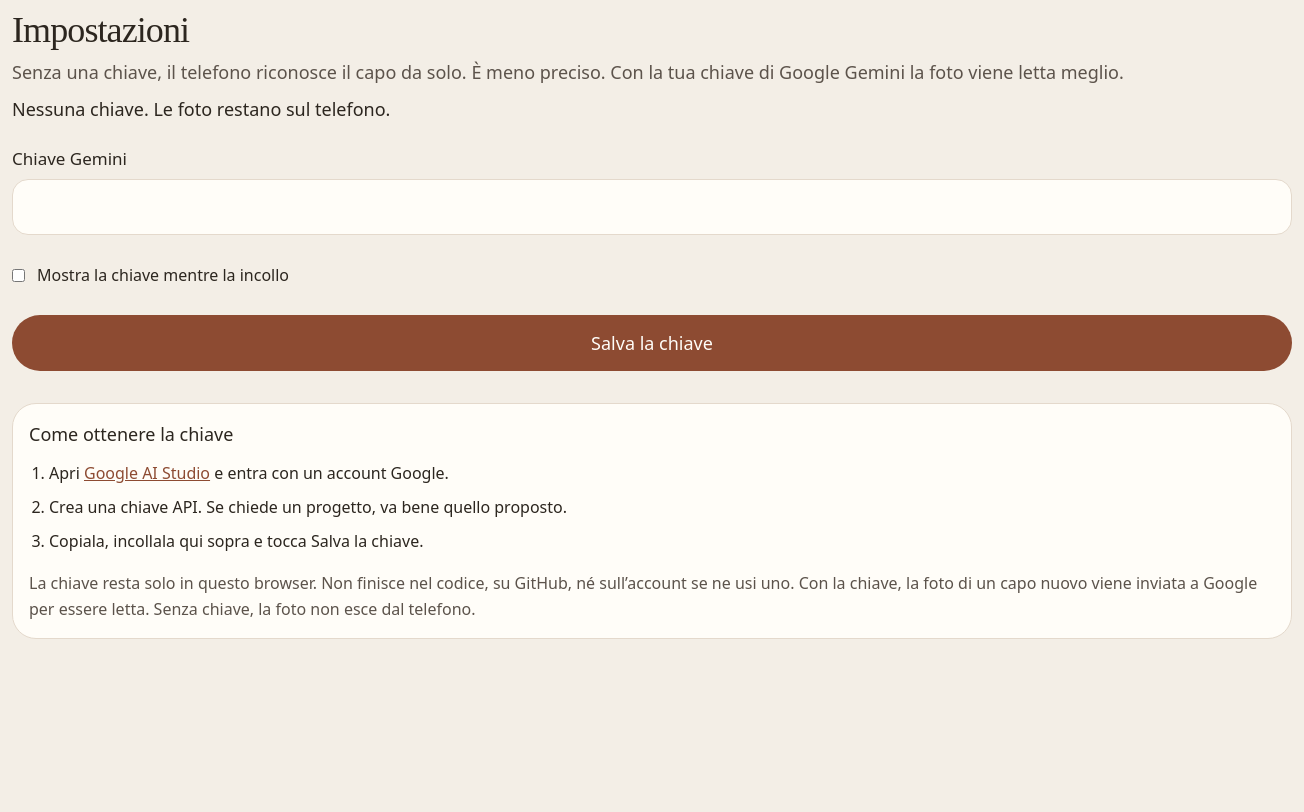
impostazioni › salva la chiave solo nel browser e non la lascia in vista
The image size is (1304, 812).
Expected: the text "Nessuna chiave. Le foto restano sul telefono." is shown, [12,97,390,121]
Type "chiave-di-prova" into the password field labelled "Chiave Gemini".
click(652, 207); type("chiave-di-prova")  # box [12,179,1292,235]
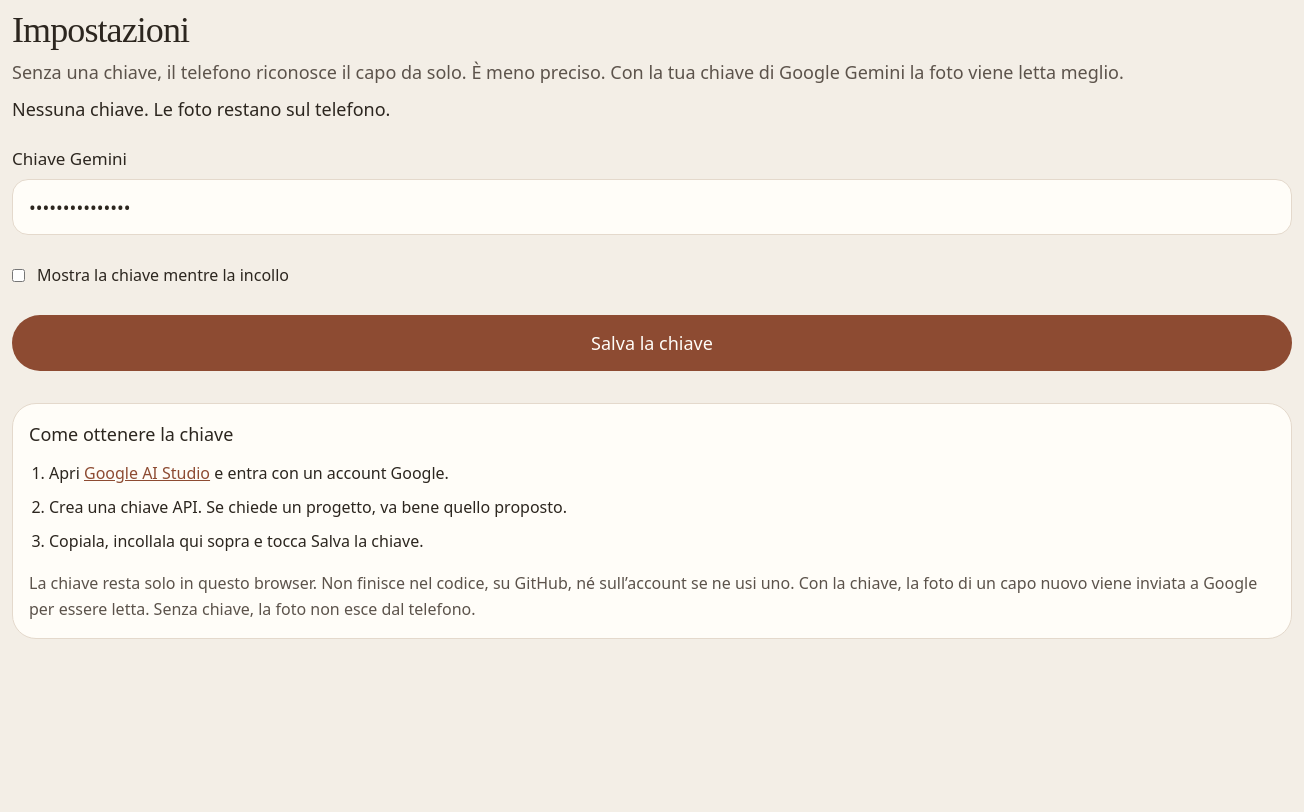
Click the button "Salva la chiave".
click(652, 343)  # box [12,315,1292,371]
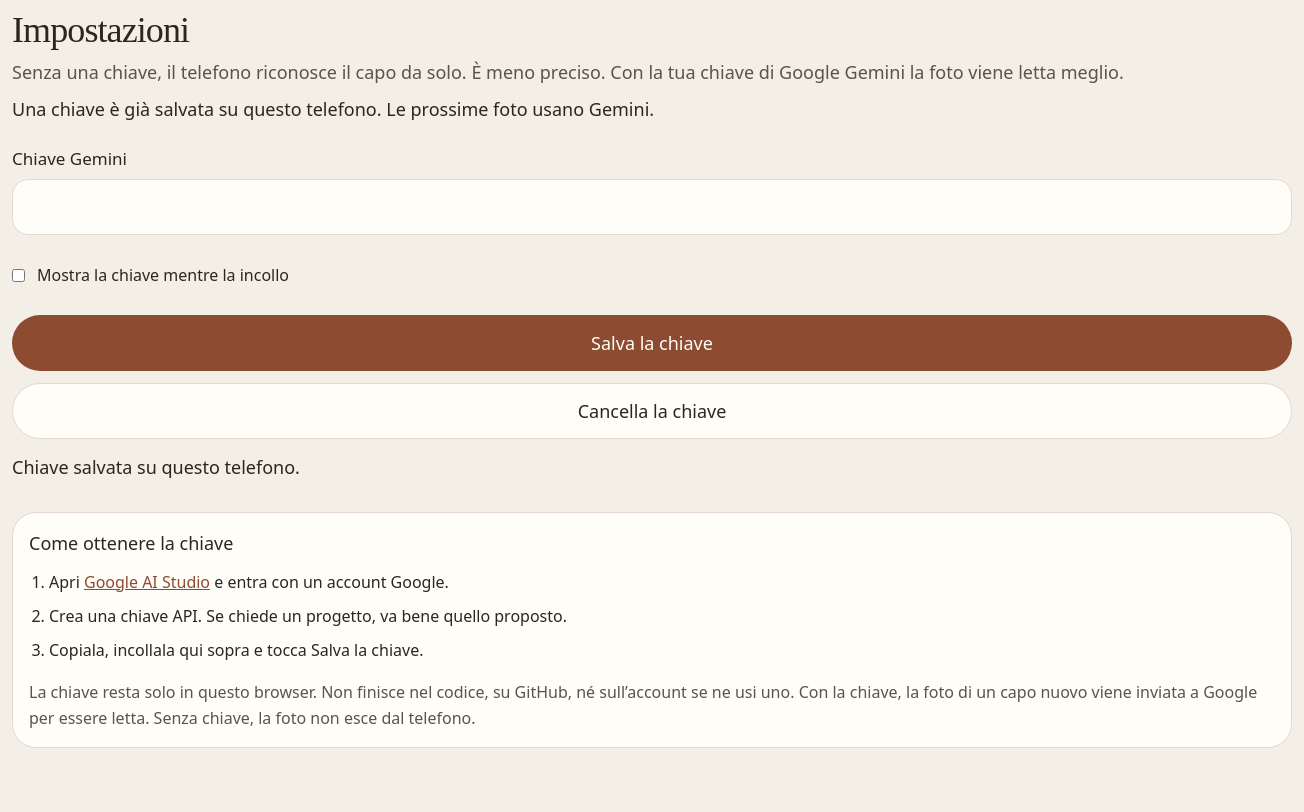
Expected: the password field labelled "Chiave Gemini" is empty, [12,179,1292,235]
Expected: the text "Chiave salvata su questo telefono." is shown, [12,455,300,479]
Click the button "Cancella la chiave".
click(652, 411)  # box [12,383,1292,439]
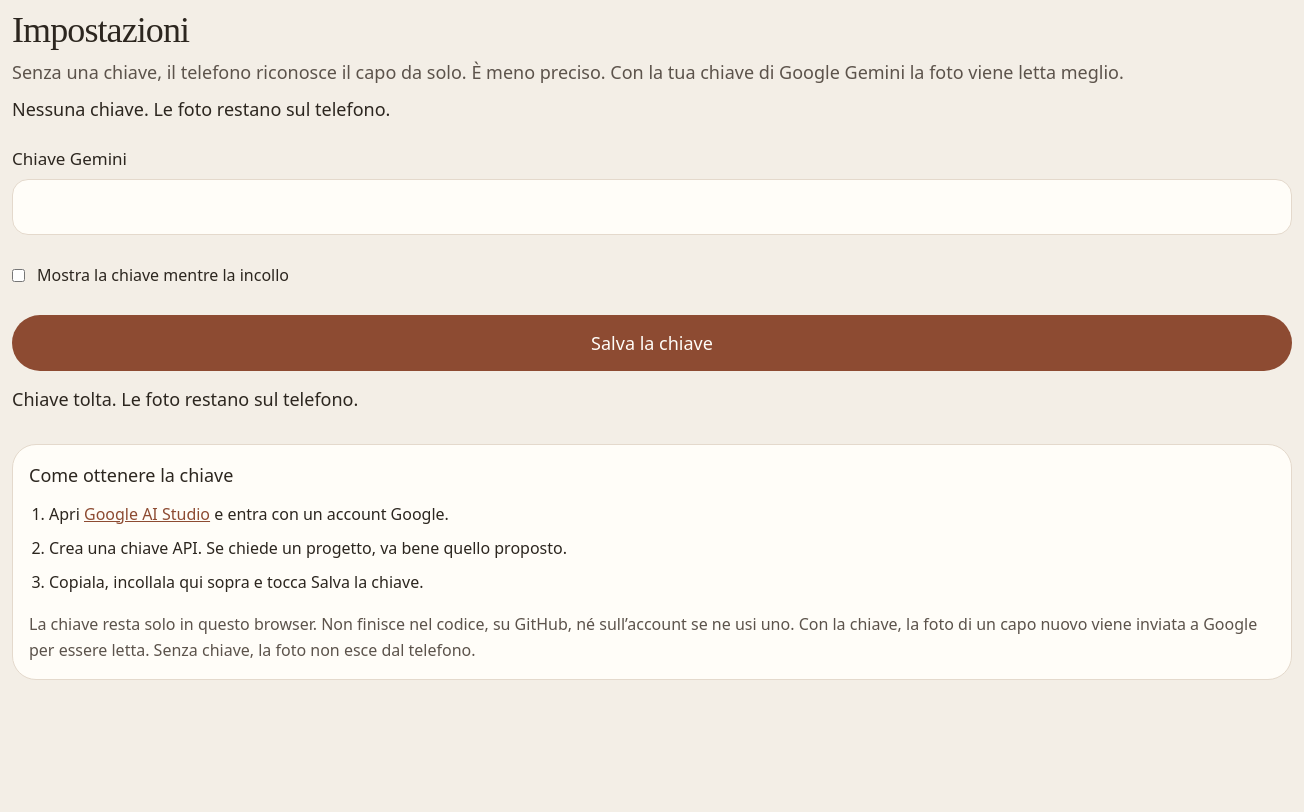
Expected: the text "Chiave tolta. Le foto restano sul telefono." is shown, [12,387,358,411]
